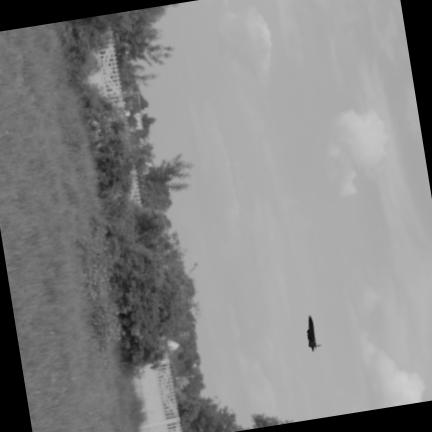Shahed: (306, 315, 323, 352)
